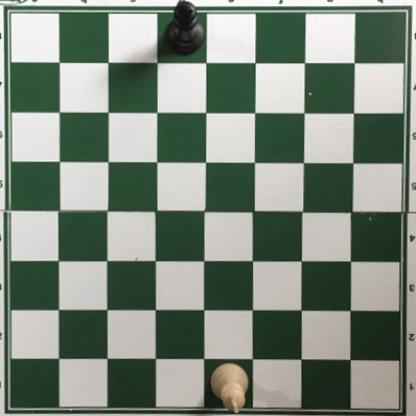black-king: (164, 1, 206, 58)
white-king: (208, 361, 249, 415)
